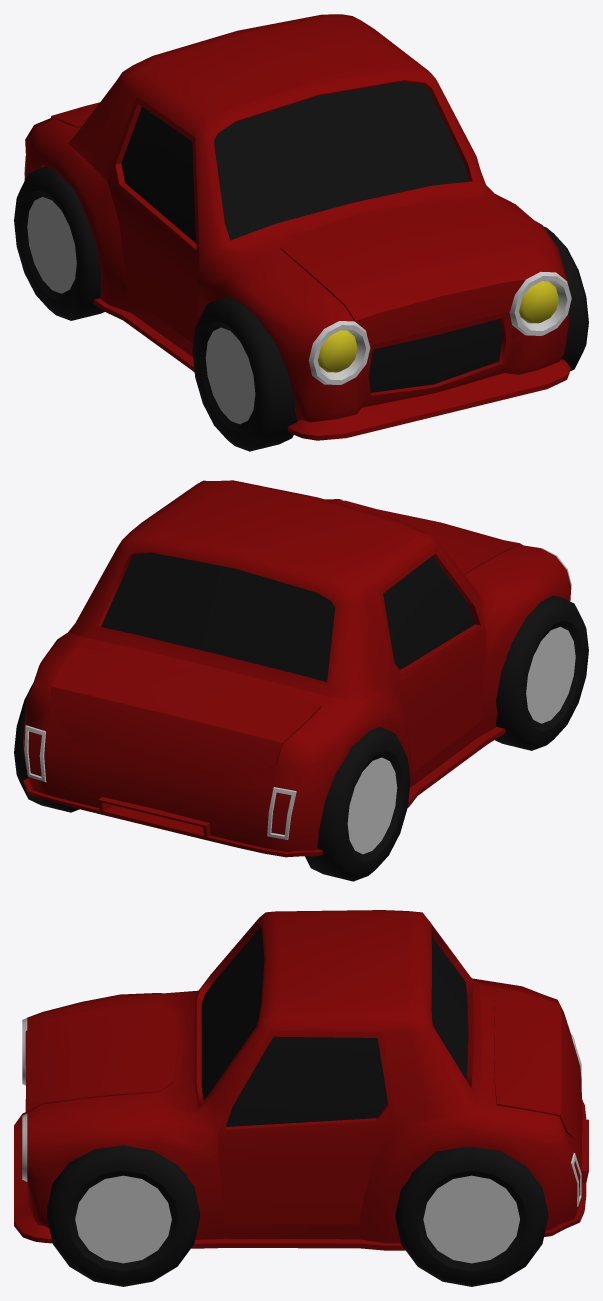
The model's file is Car.fbx.
3 renders of one model, top to bottom at view 1: azimuth 30°, elevation 25°; view 2: azimuth 150°, elevation 25°; view 3: azimuth 270°, elevation 25°, orthographic. The views are drawn at different scales.
Parts seen in each view (by area): view 1: Circle.002, G-Wheels.002; view 2: Circle.002, G-Wheels.002; view 3: Circle.002, G-Wheels.002.
Boxes of the visible parts, x1,y1,x2,y2 form: Circle.002: [24, 14, 571, 440]; G-Wheels.002: [14, 166, 588, 451]; Circle.002: [23, 480, 571, 857]; G-Wheels.002: [14, 595, 588, 881]; Circle.002: [14, 910, 588, 1250]; G-Wheels.002: [47, 1145, 548, 1286].
Bounding box in the file's own units: 30.56 × 23.94 × 47.79.
